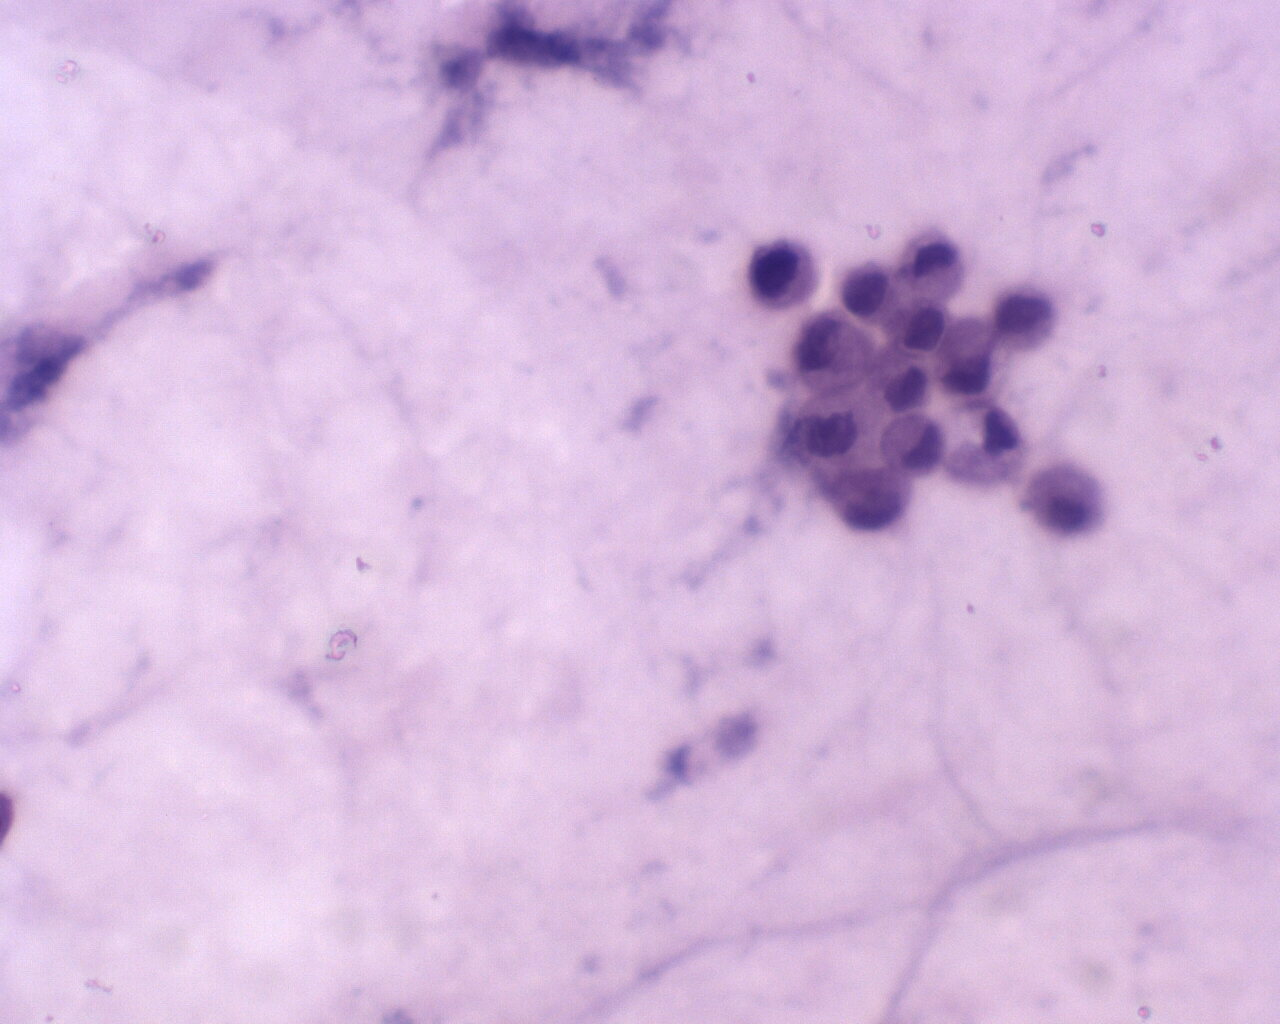ab: (986, 278, 1063, 358), (746, 239, 824, 315), (880, 406, 946, 480), (840, 259, 904, 325), (897, 293, 950, 358)
